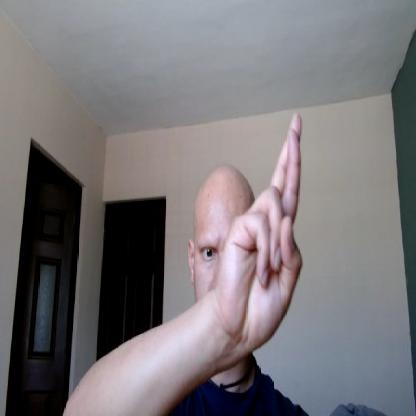R: (218, 109, 305, 348)
